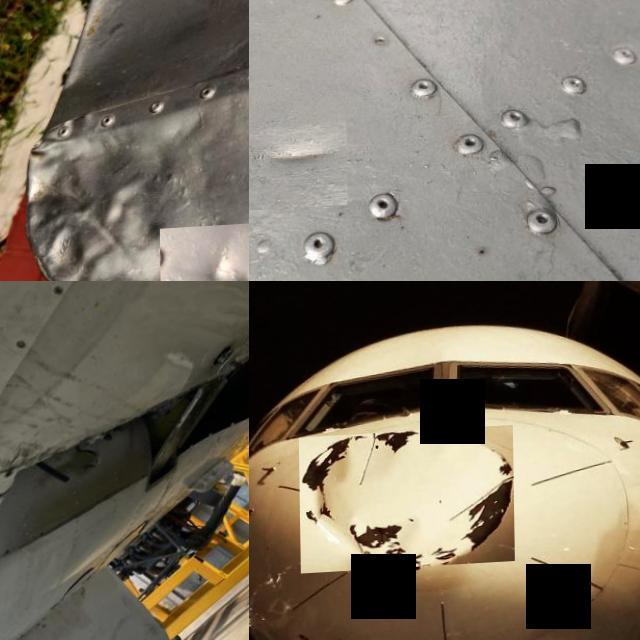Dent: (300, 436, 513, 569), (12, 133, 188, 281), (249, 101, 346, 214)
Missing_Fastener: (13, 342, 28, 353), (51, 288, 63, 300), (1, 473, 12, 481)
